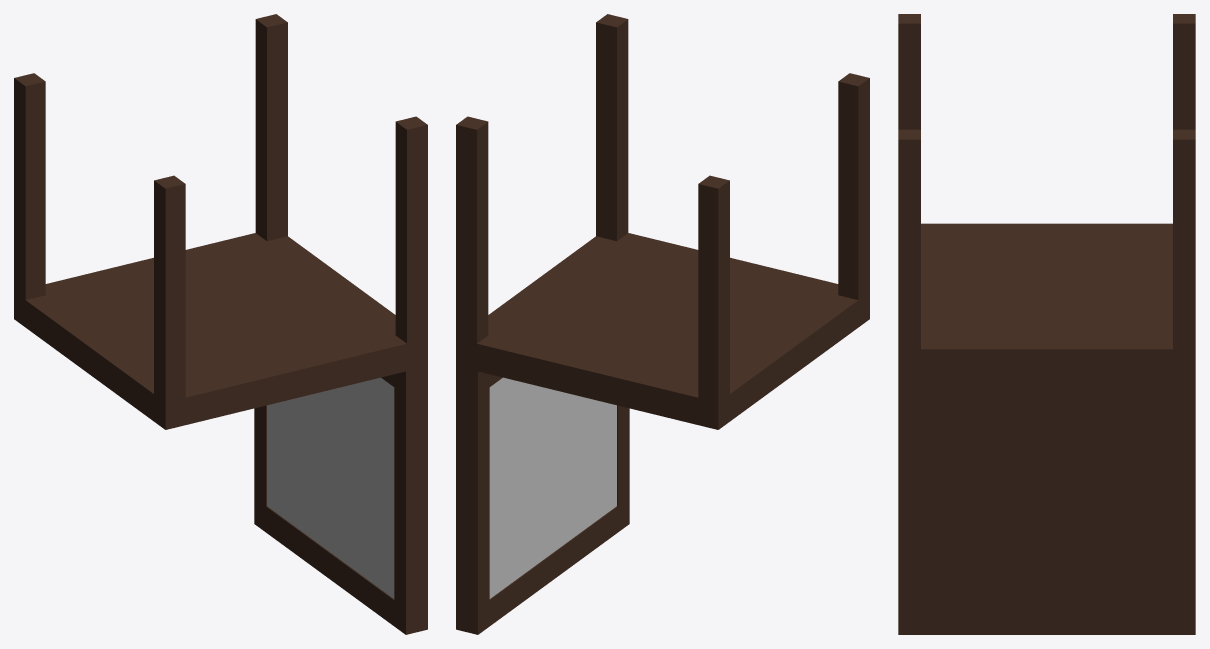
The model's file is chair.fbx.
3 renders of one model, left to right at view 1: azimuth 30°, elevation 25°; view 2: azimuth 150°, elevation 25°; view 3: azimuth 270°, elevation 25°, orthographic.
Visible parts, largest first — view 1: chair; view 2: chair; view 3: chair.
Part boxes in pixels (x1,y1,x2,y2): chair: [14, 14, 427, 634]; chair: [456, 14, 869, 634]; chair: [898, 14, 1195, 634].
Bounding box in the file's own units: 400 × 736 × 400.
